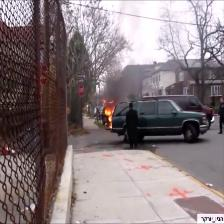fire: (98, 99, 119, 132)
